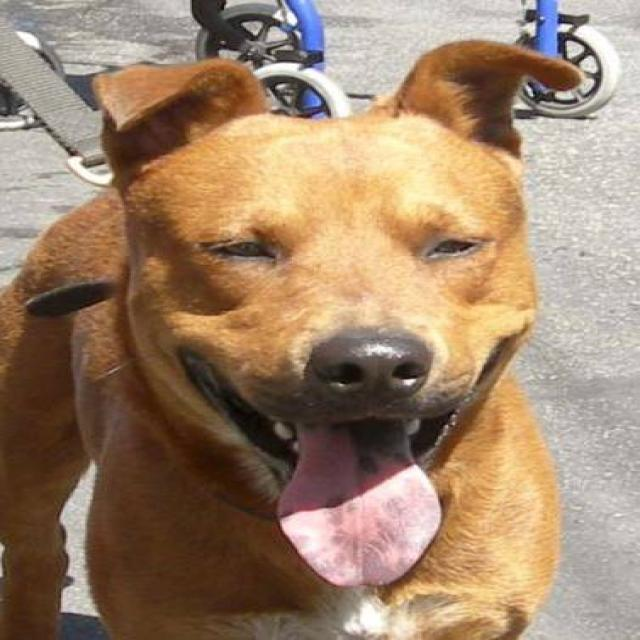dogs: (16, 46, 616, 640)
